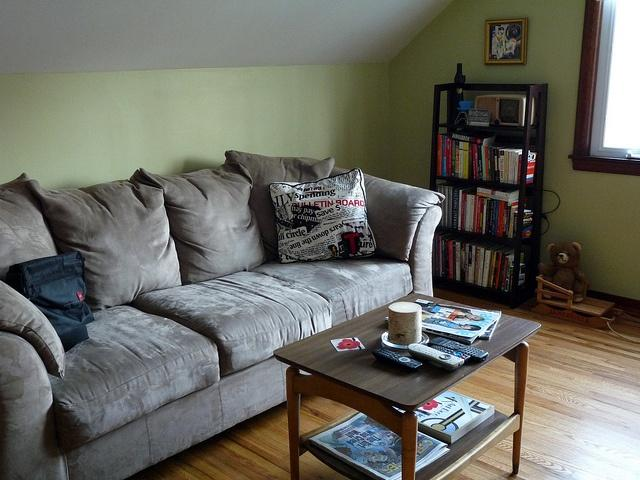Meja: (272, 292, 542, 479)
Rak: (425, 81, 548, 306)
